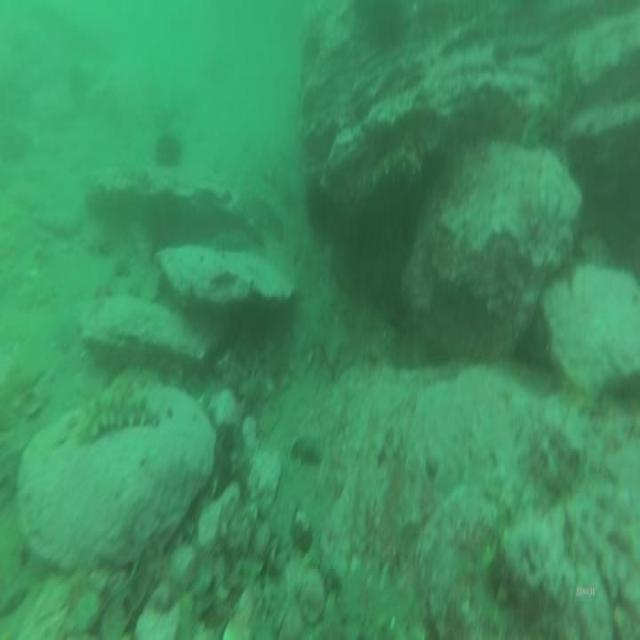echinus: (151, 126, 185, 176)
holothurian: (515, 38, 583, 155), (76, 382, 164, 453), (367, 139, 424, 202)
